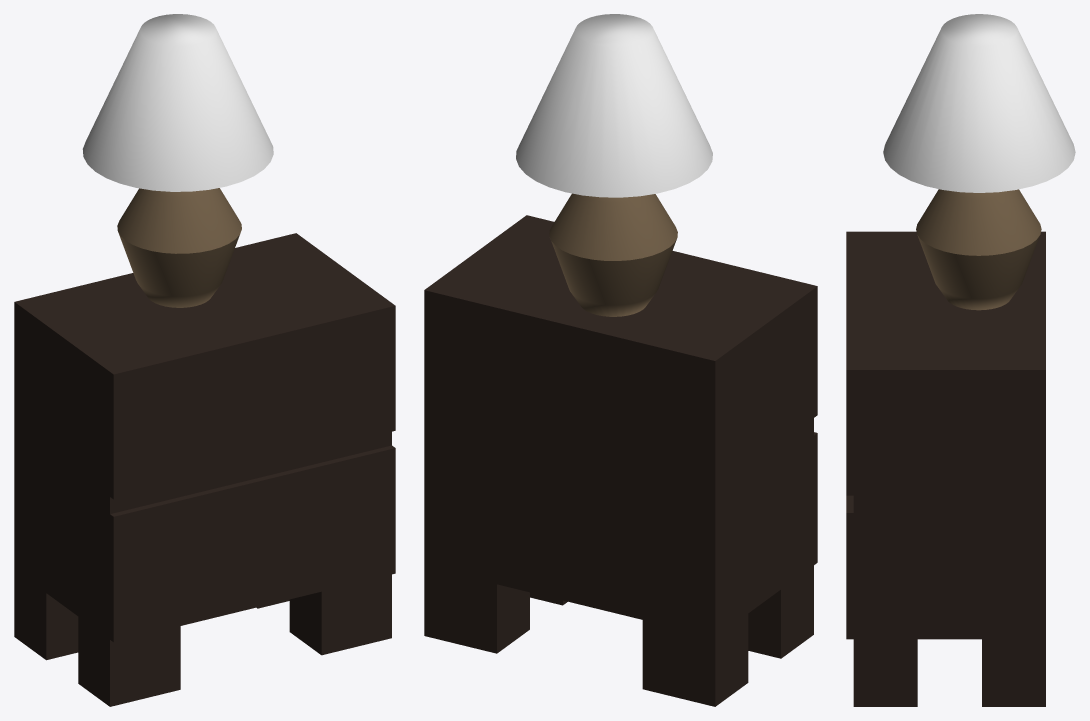
3 views of the same model, side by side, from view 1: azimuth 30°, elevation 25°; view 2: azimuth 150°, elevation 25°; view 3: azimuth 270°, elevation 25° (orthographic). The views are drawn at different scales.
Parts seen in each view (by area): view 1: Cajones; view 2: Cajones; view 3: Cajones.
Part boxes in pixels (left/top/right/bottom): Cajones: left=14, top=14, right=395, bottom=706; Cajones: left=424, top=14, right=817, bottom=706; Cajones: left=846, top=14, right=1075, bottom=706.
Size of the model in its own units: 340 by 691 by 238.
